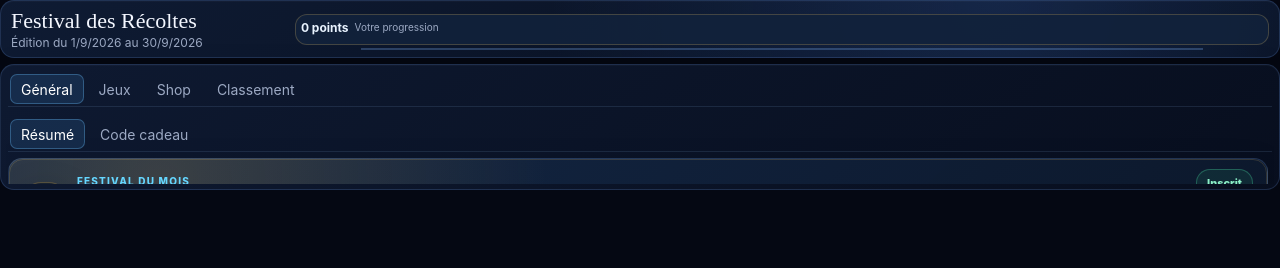
it: EventScreen presentation › exposes only a Codes navigation action and honors the Shop notification intent
The width and height of the screenshot is (1280, 268).
Click the button "Code cadeau" at [144, 134], box top-left (89, 119), bottom-right (199, 149)
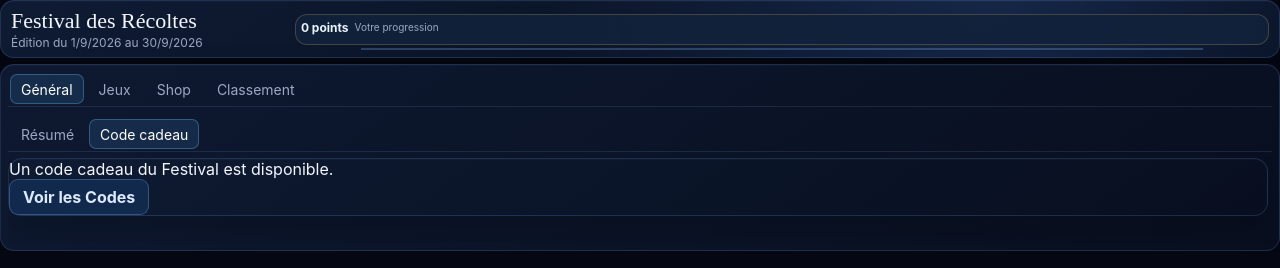
Click the button "Voir les Codes" at [79, 197], box top-left (9, 179), bottom-right (149, 215)
(page scrolled)
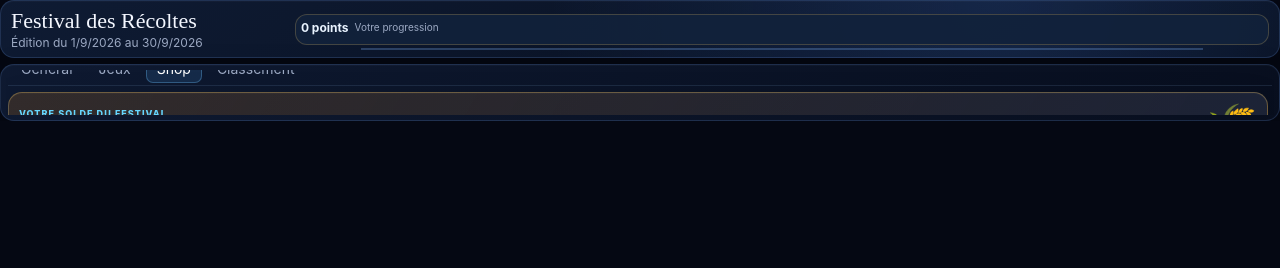
Check: the text "Voir les Codes" is gone
